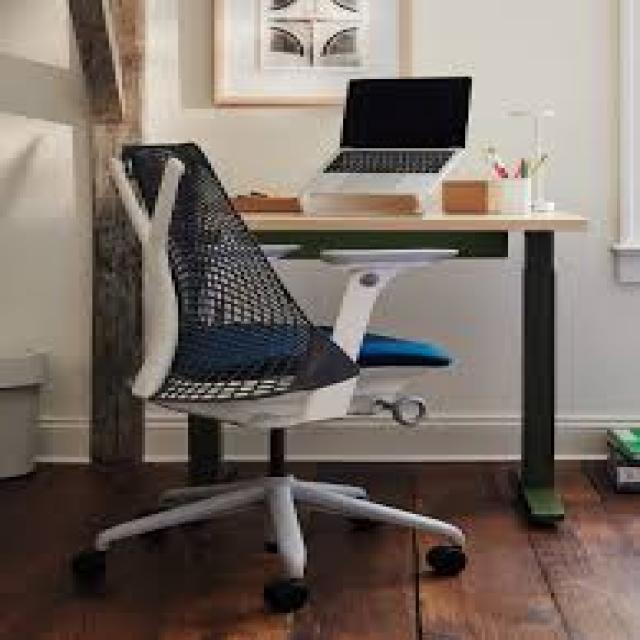chair: (59, 121, 493, 640)
